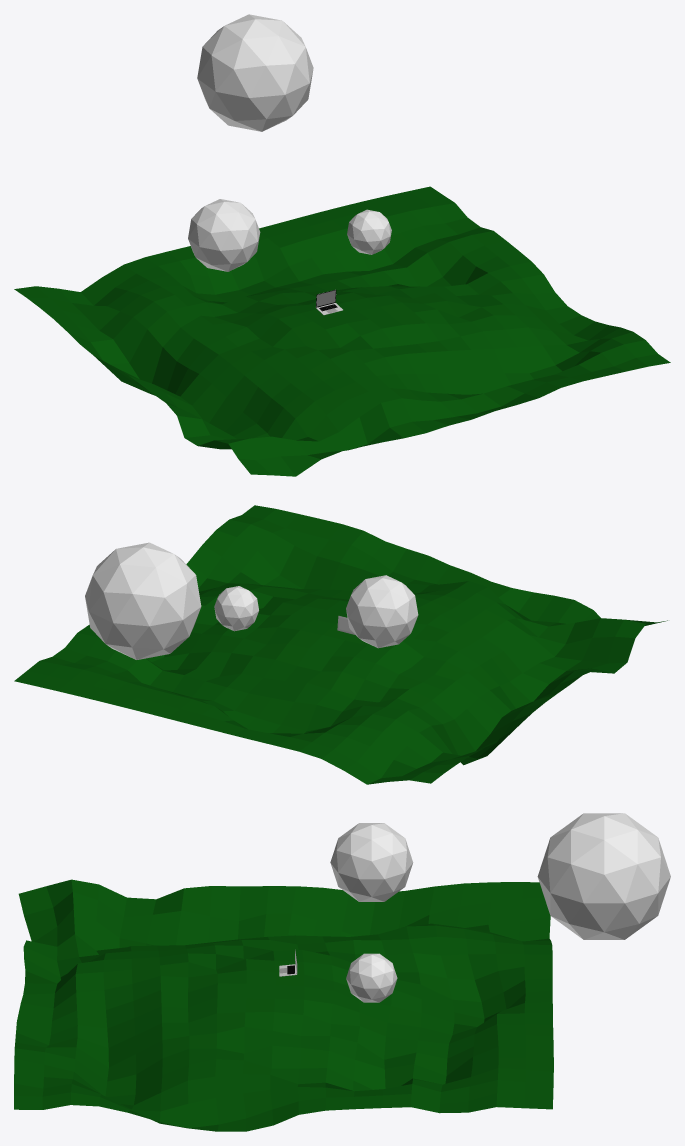
The picture shows the model from 3 angles, top to bottom: view 1: azimuth 30°, elevation 25°; view 2: azimuth 150°, elevation 25°; view 3: azimuth 270°, elevation 25°; orthographic projection. The views are drawn at different scales.
Parts seen in each view (by area): view 1: Grid, Icosphere002, Icosphere001, Icosphere; view 2: Grid, Icosphere002, Icosphere001, Icosphere; view 3: Grid, Icosphere002, Icosphere001, Icosphere.
Part boxes in pixels (bbox=[...]): Grid: bbox=[14, 186, 670, 476]; Icosphere002: bbox=[197, 14, 313, 131]; Icosphere001: bbox=[188, 199, 260, 271]; Icosphere: bbox=[347, 209, 391, 254]; Grid: bbox=[14, 505, 667, 784]; Icosphere002: bbox=[85, 542, 201, 659]; Icosphere001: bbox=[346, 575, 418, 648]; Icosphere: bbox=[214, 586, 258, 631]; Grid: bbox=[14, 879, 553, 1131]; Icosphere002: bbox=[537, 813, 670, 939]; Icosphere001: bbox=[330, 823, 413, 901]; Icosphere: bbox=[346, 953, 397, 1002].
Bounding box in the file's own units: 188 × 103 × 225.
